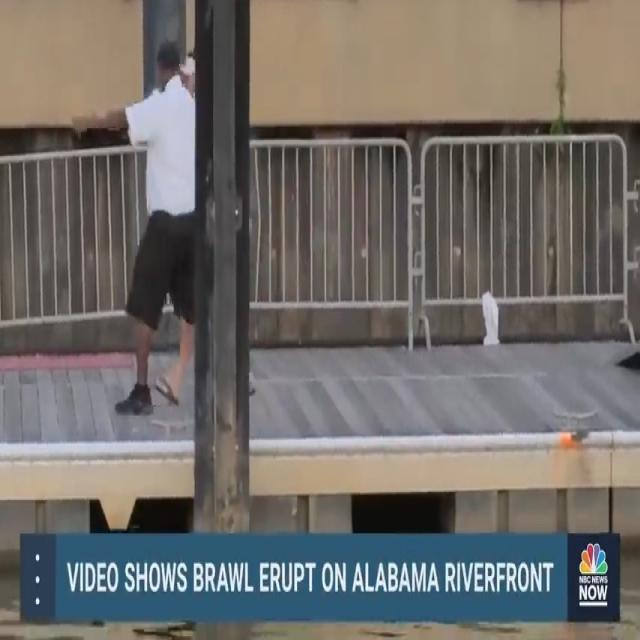non-fight: (66, 29, 205, 425)
